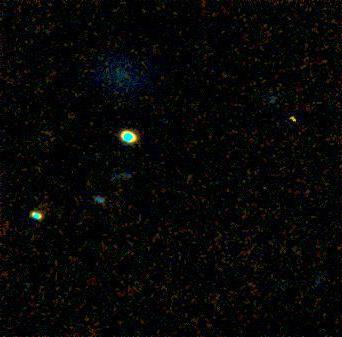star: (279, 101, 309, 131)
